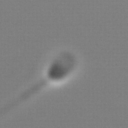normal: (1, 76, 47, 116)
